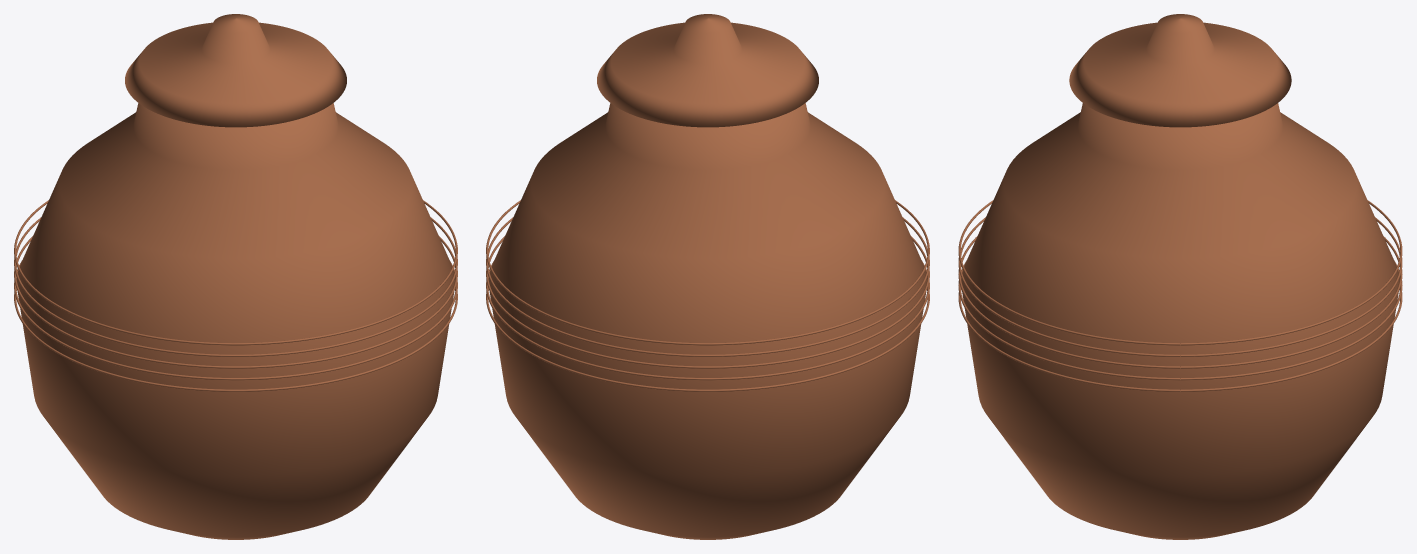
Rendered from earthenware-jar.glb.
3 views of the same model, side by side, from view 1: azimuth 30°, elevation 25°; view 2: azimuth 150°, elevation 25°; view 3: azimuth 270°, elevation 25° (orthographic).
Visible parts, largest first — view 1: Earthenware jar, Lid, Wheel-thrown line.004, Wheel-thrown line.003, Wheel-thrown line.002, Wheel-thrown line.001, Wheel-thrown line; view 2: Earthenware jar, Lid, Wheel-thrown line.004, Wheel-thrown line.003, Wheel-thrown line.002, Wheel-thrown line.001, Wheel-thrown line; view 3: Earthenware jar, Lid, Wheel-thrown line.004, Wheel-thrown line.003, Wheel-thrown line.002, Wheel-thrown line.001, Wheel-thrown line.
Part boxes in pixels (x1,y1,x2,y2): Earthenware jar: (16,103,455,539); Lid: (125,14,346,127); Wheel-thrown line.004: (14,200,457,345); Wheel-thrown line.003: (14,217,457,356); Wheel-thrown line.002: (14,236,457,368); Wheel-thrown line.001: (14,261,457,380); Wheel-thrown line: (14,288,457,391); Earthenware jar: (488,103,927,539); Lid: (597,14,818,127); Wheel-thrown line.004: (486,200,929,345); Wheel-thrown line.003: (486,217,929,356); Wheel-thrown line.002: (486,236,929,368); Wheel-thrown line.001: (486,261,929,380); Wheel-thrown line: (486,288,929,391); Earthenware jar: (961,103,1399,539); Lid: (1069,14,1291,127); Wheel-thrown line.004: (958,200,1402,345); Wheel-thrown line.003: (958,217,1402,356); Wheel-thrown line.002: (958,236,1402,368); Wheel-thrown line.001: (958,260,1402,380); Wheel-thrown line: (958,289,1402,391).
Bounding box in the file's own units: 1.56 × 1.87 × 1.56.
